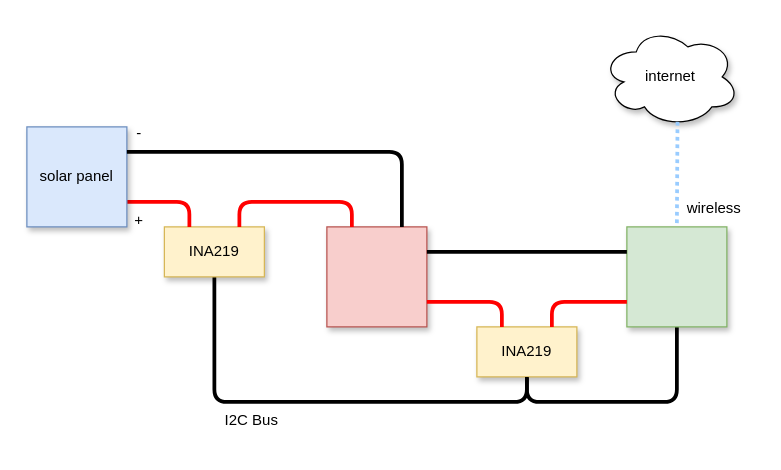
Image size: 781x470. Some labels were removed from this diagram. The centre of each missing label's shape, as x and y in pixels:
battery: [377,278]
RISC-V SBC (VisionFive 2): [677,278]
